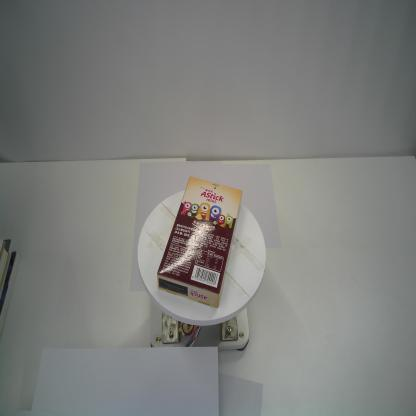Dessert: (154, 174, 244, 310)
